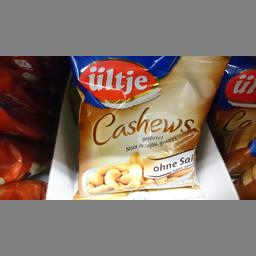nuts: (68, 55, 226, 198)
